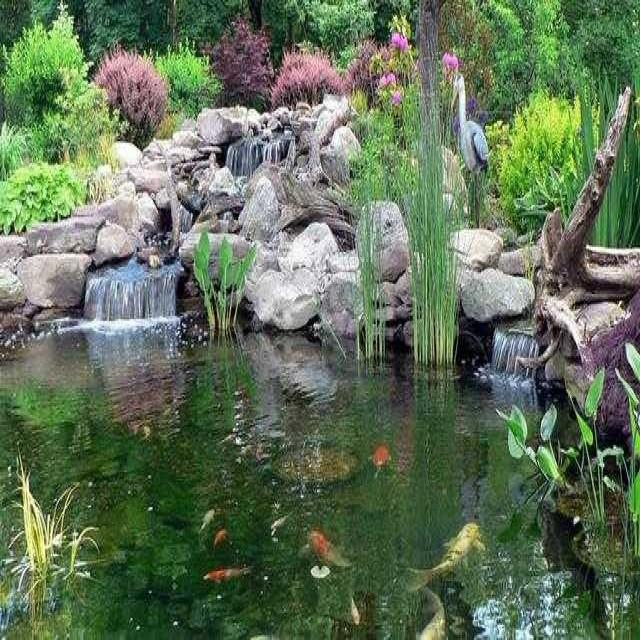Ponds: (1, 97, 638, 639)
